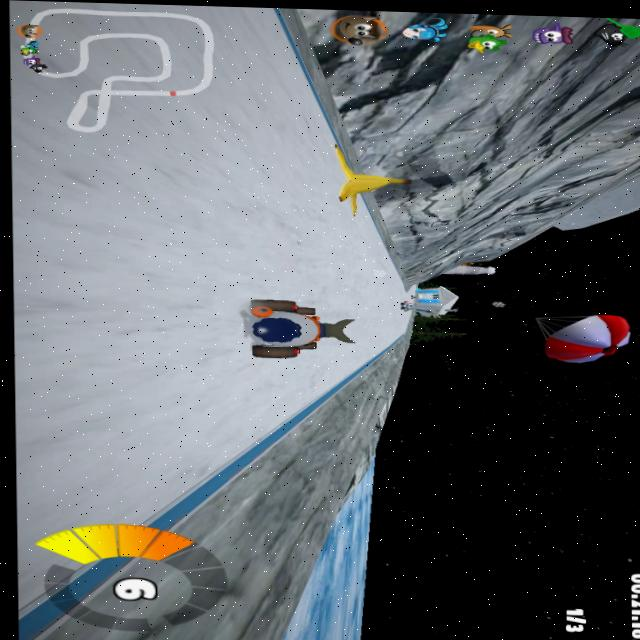enemy_kart: (397, 300, 417, 312)
obstacle: (320, 146, 404, 215)
player_kart: (238, 292, 353, 362)
